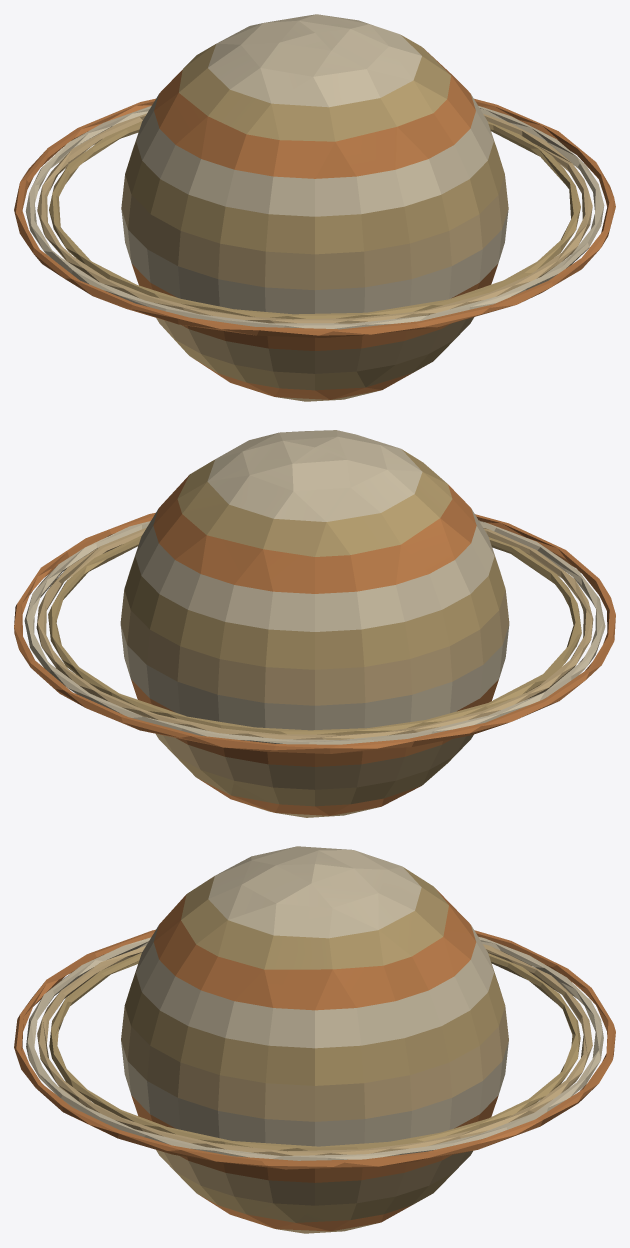
File: space-planet-gas.lod1.glb
3 renders of one model, top to bottom at view 1: azimuth 30°, elevation 25°; view 2: azimuth 150°, elevation 25°; view 3: azimuth 270°, elevation 25°, orthographic.
Visible parts, largest first — view 1: space-planet-gas__body; view 2: space-planet-gas__body; view 3: space-planet-gas__body.
Boxes of the visible parts, x1=… form: space-planet-gas__body: x1=14, y1=14, x2=615, y2=401; space-planet-gas__body: x1=14, y1=430, x2=615, y2=817; space-planet-gas__body: x1=14, y1=846, x2=615, y2=1233.
Size of the model in its own units: 6.21 by 4 by 6.21.
